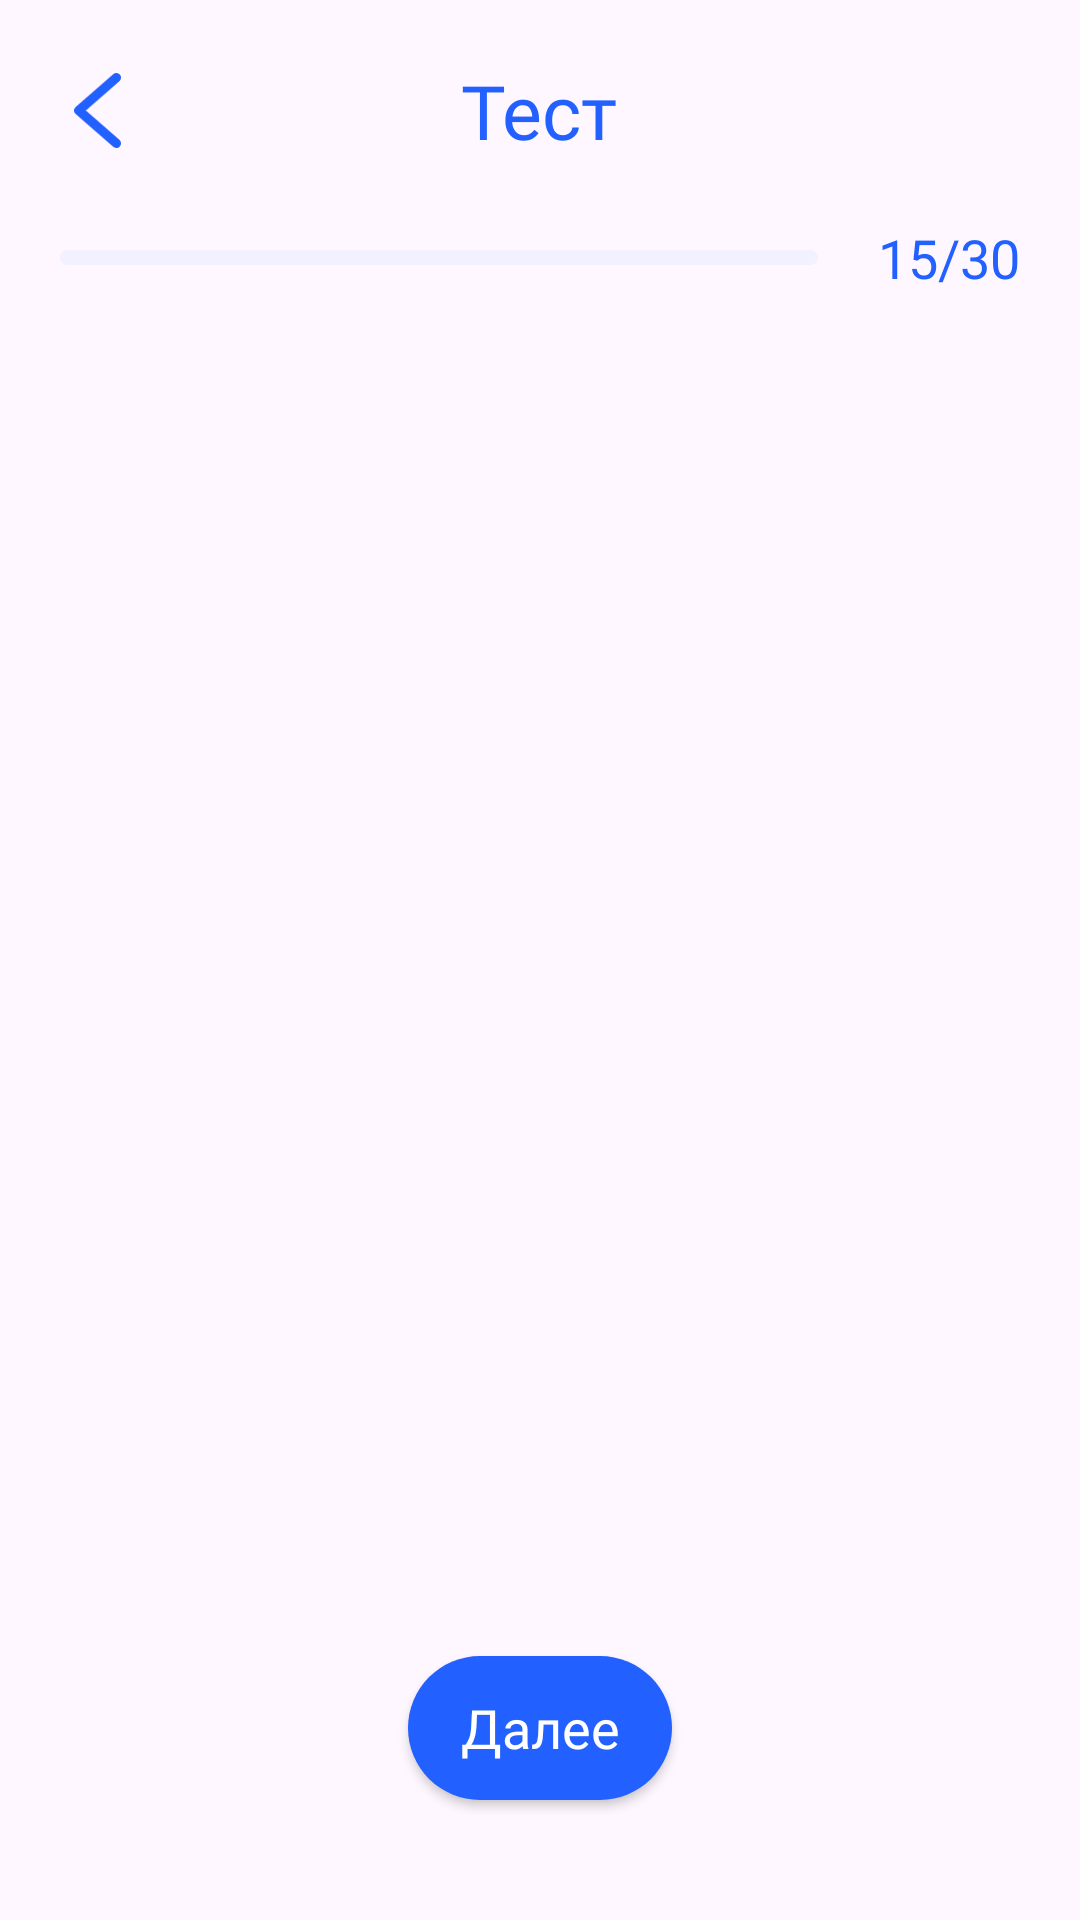

Screen size 1080px×1920px. Icon name, then its center in pixels as [x,y]:
arrow back: [97,110]
